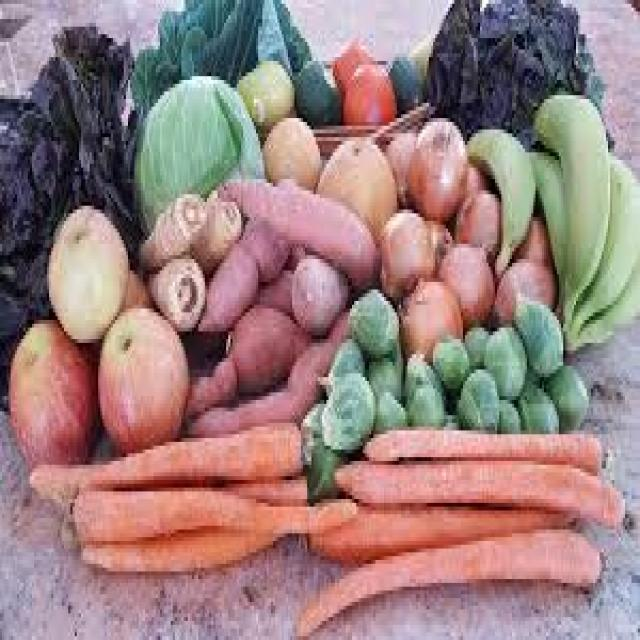organic waste: (0, 19, 137, 404), (294, 522, 600, 636), (420, 0, 612, 160), (128, 0, 313, 114), (25, 416, 298, 492), (130, 73, 263, 228), (329, 457, 625, 526), (183, 312, 352, 427), (533, 88, 610, 328), (218, 171, 378, 286), (305, 499, 574, 560), (94, 301, 190, 453), (6, 316, 96, 465), (361, 419, 608, 472), (569, 145, 638, 331), (45, 202, 128, 343), (64, 488, 354, 526), (465, 122, 536, 274), (196, 213, 286, 324), (79, 530, 284, 575), (314, 137, 396, 236), (226, 301, 312, 392), (525, 144, 565, 308), (405, 114, 465, 217), (561, 274, 638, 350), (132, 187, 209, 263), (290, 248, 350, 328), (147, 248, 205, 328), (235, 54, 292, 130), (512, 293, 563, 377), (260, 114, 322, 183), (490, 255, 554, 320), (320, 370, 371, 450), (341, 57, 397, 126), (213, 468, 305, 506), (192, 194, 241, 263), (186, 342, 237, 408), (348, 282, 397, 350), (482, 320, 525, 396), (314, 328, 367, 388), (452, 186, 499, 252), (294, 54, 342, 114), (457, 362, 499, 430), (544, 358, 587, 423), (305, 438, 352, 495), (382, 126, 416, 194), (386, 49, 425, 106), (518, 373, 559, 427), (431, 332, 469, 388), (405, 377, 446, 427), (298, 396, 328, 461), (401, 351, 444, 396), (514, 210, 551, 259), (365, 351, 401, 396), (374, 384, 406, 426), (330, 34, 364, 72), (463, 320, 491, 366), (463, 156, 486, 191), (408, 34, 433, 65), (497, 396, 518, 427), (444, 408, 461, 427)
